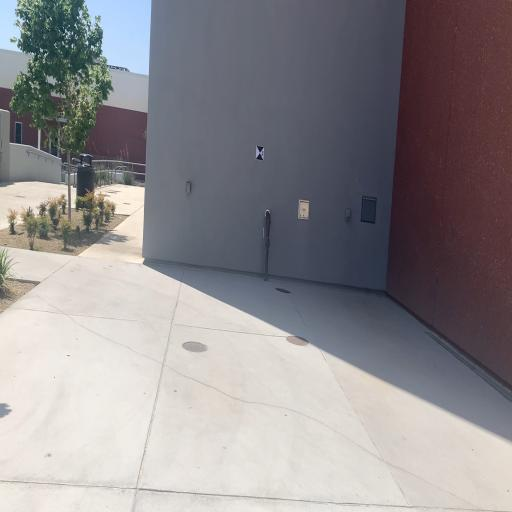target3: (256, 145, 264, 161)
